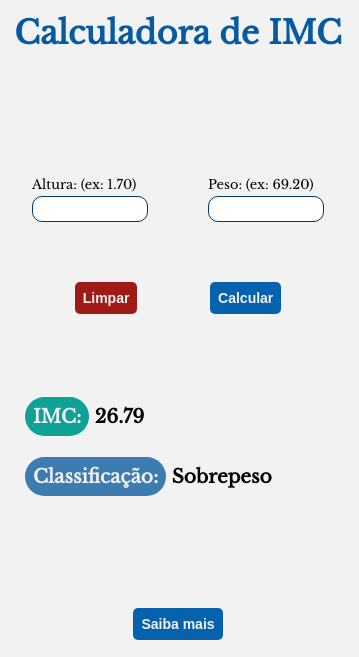
Scenario: Test usage of Calculator page › Should clear imc information when clear button is clicked
Expected: the text "26.79" is shown, top-left (95, 404), bottom-right (144, 428)
Expected: the text with test id "answer-status" reads "Sobrepeso", top-left (172, 465), bottom-right (272, 488)
What coordinates should you click on to do the following:
click the button "Limpar"
I would click on:
 (106, 298)
Its box is top-left (75, 282), bottom-right (137, 314).
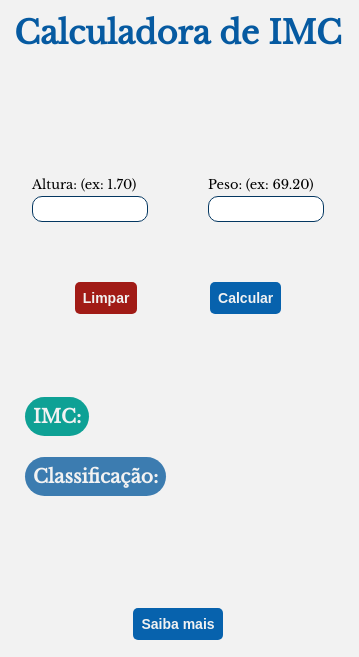
Now the text with test id "answer-imc" is gone
Now the text with test id "answer-status" is gone
